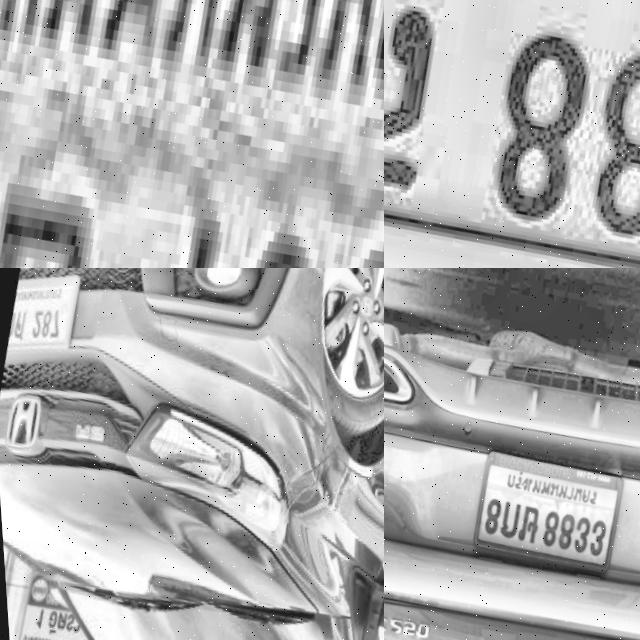license-plate: (0, 0, 384, 268), (384, 0, 640, 268), (459, 441, 631, 585), (0, 268, 86, 372)
